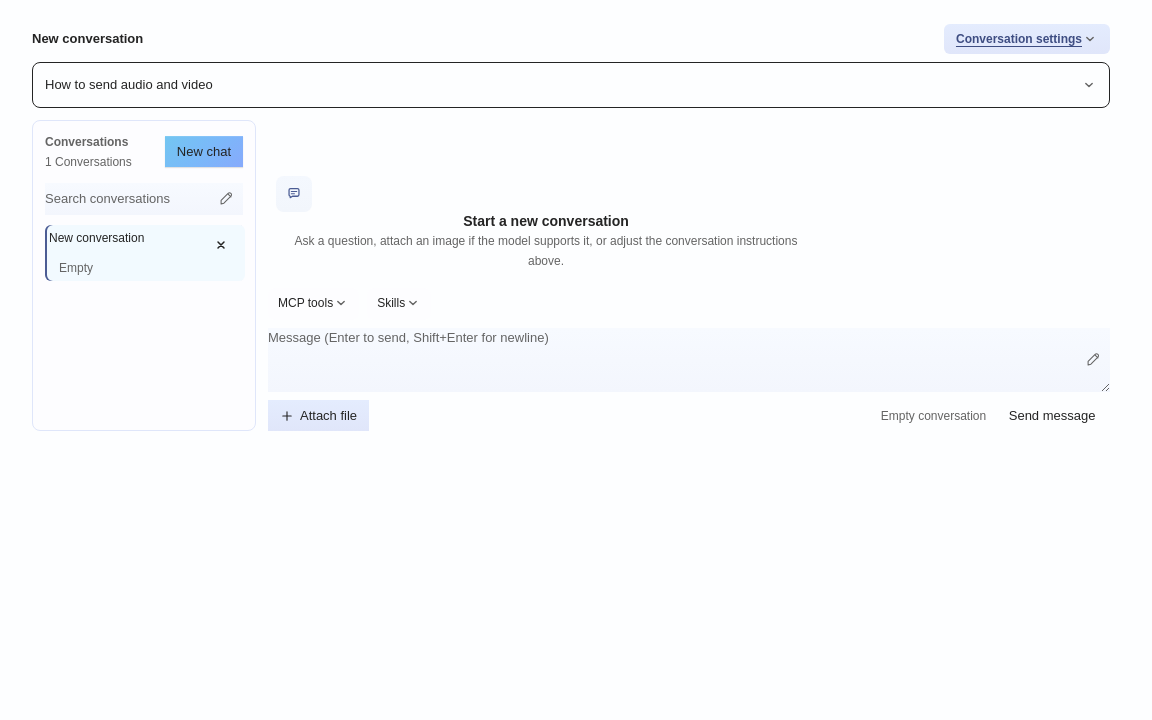
Test case: ChatPanel unified attachments › attaches documents and images with one button and blocks another selection while reading
Click the button "Attach file" at (319, 416), box x1=268 y1=400 x2=369 y2=431
(page scrolled)
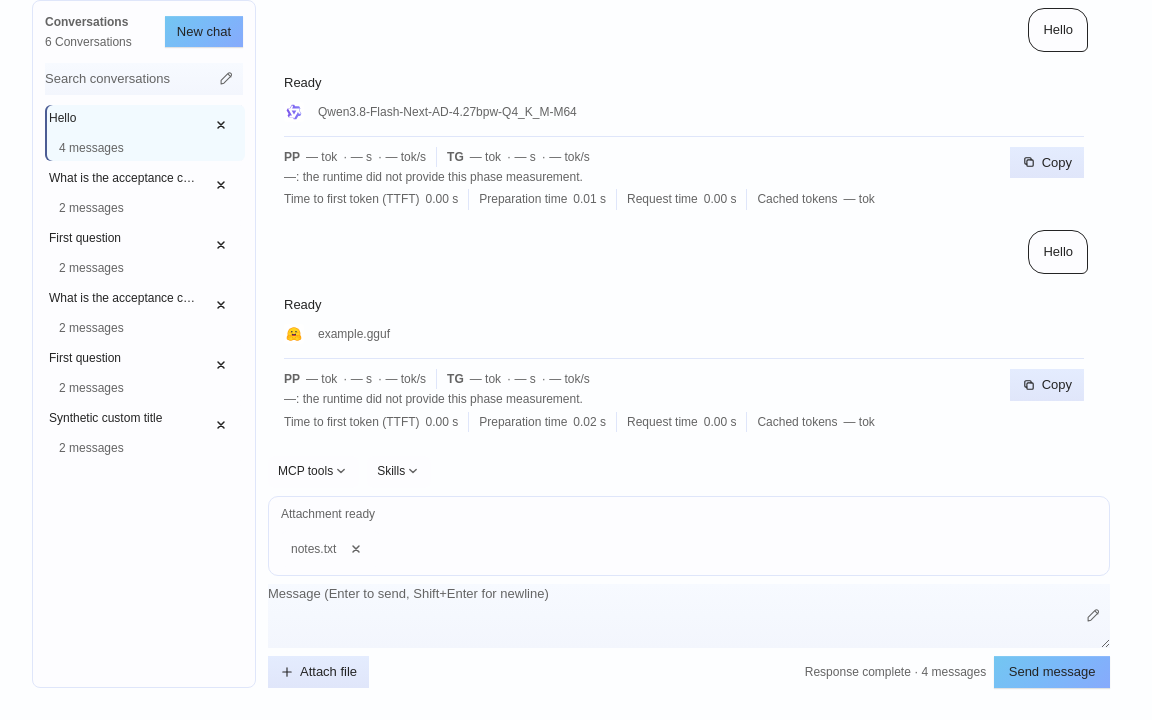
Expected: the text "notes.txt" is shown, x1=291 y1=540 x2=336 y2=558
Expected: the text "Attachment ready" is shown, x1=281 y1=507 x2=375 y2=521
Click the button "Attach file" at (319, 672), box x1=268 y1=656 x2=369 y2=688
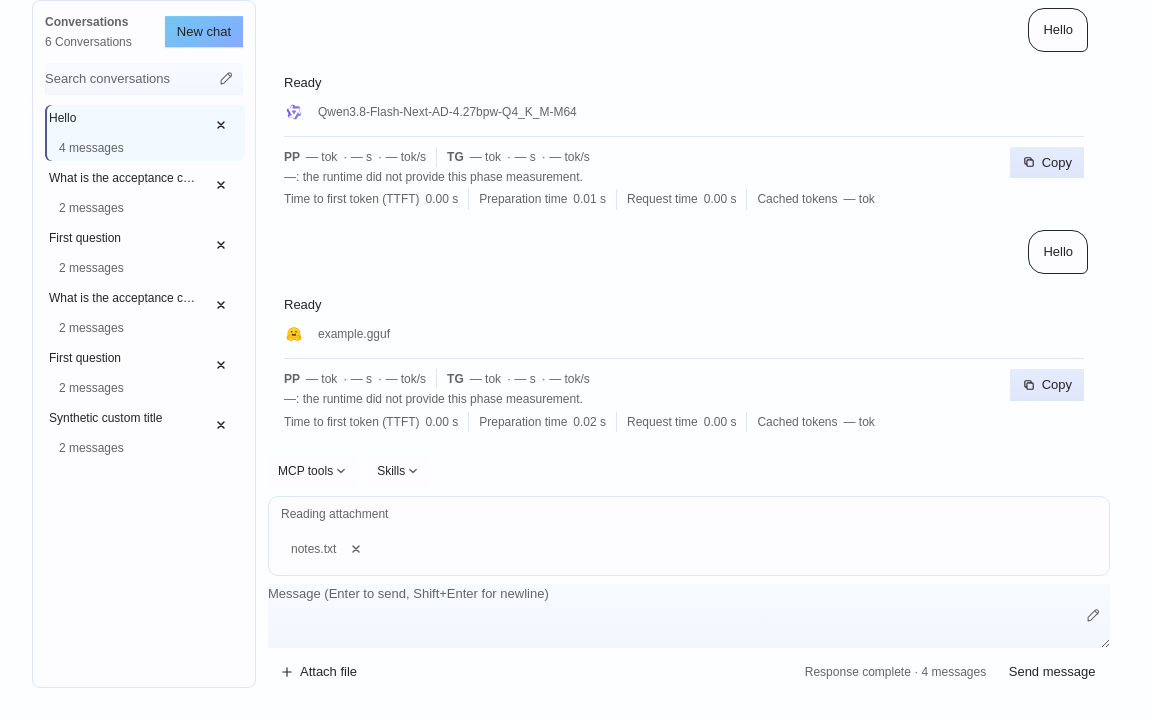
Expected: the button "Attach file" is disabled
Click the button "Attach file" at (319, 672), box x1=268 y1=656 x2=369 y2=688
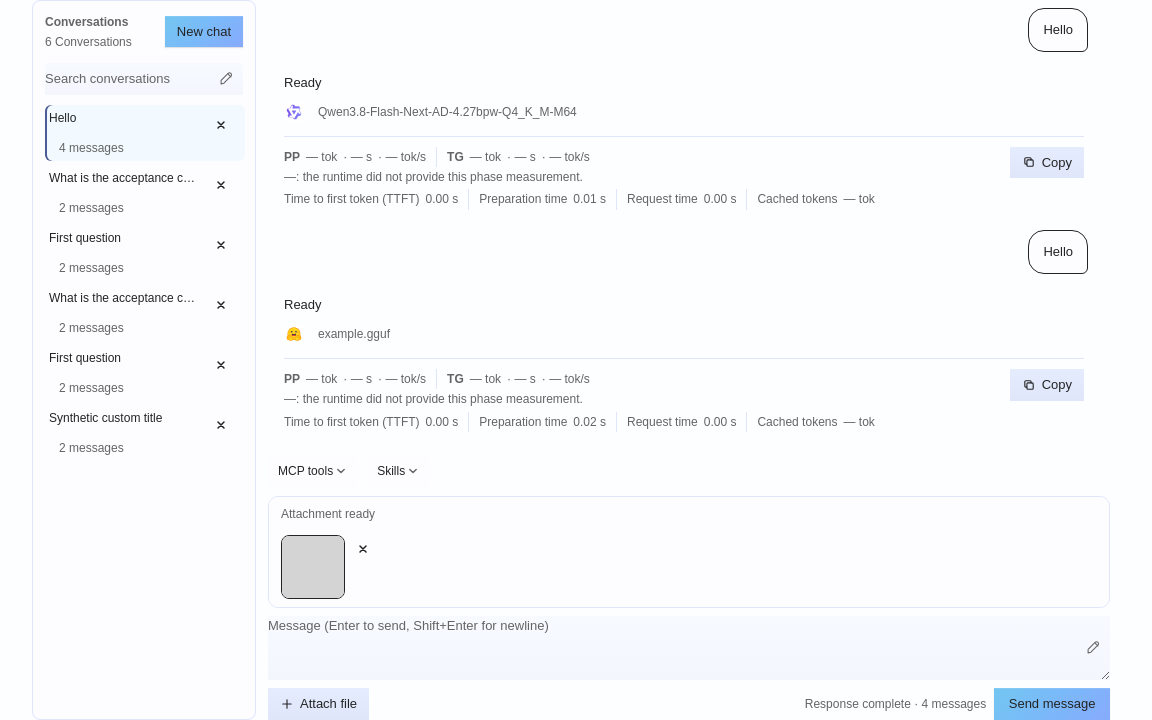
Expected: the button "Attach file" is enabled, x1=268 y1=688 x2=369 y2=719
